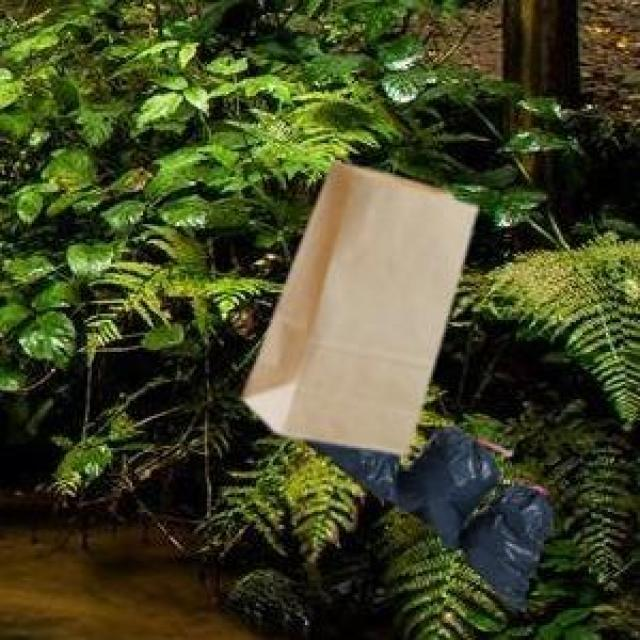miscellaneous trash: (301, 425, 548, 608)
paper: (239, 158, 474, 450)
